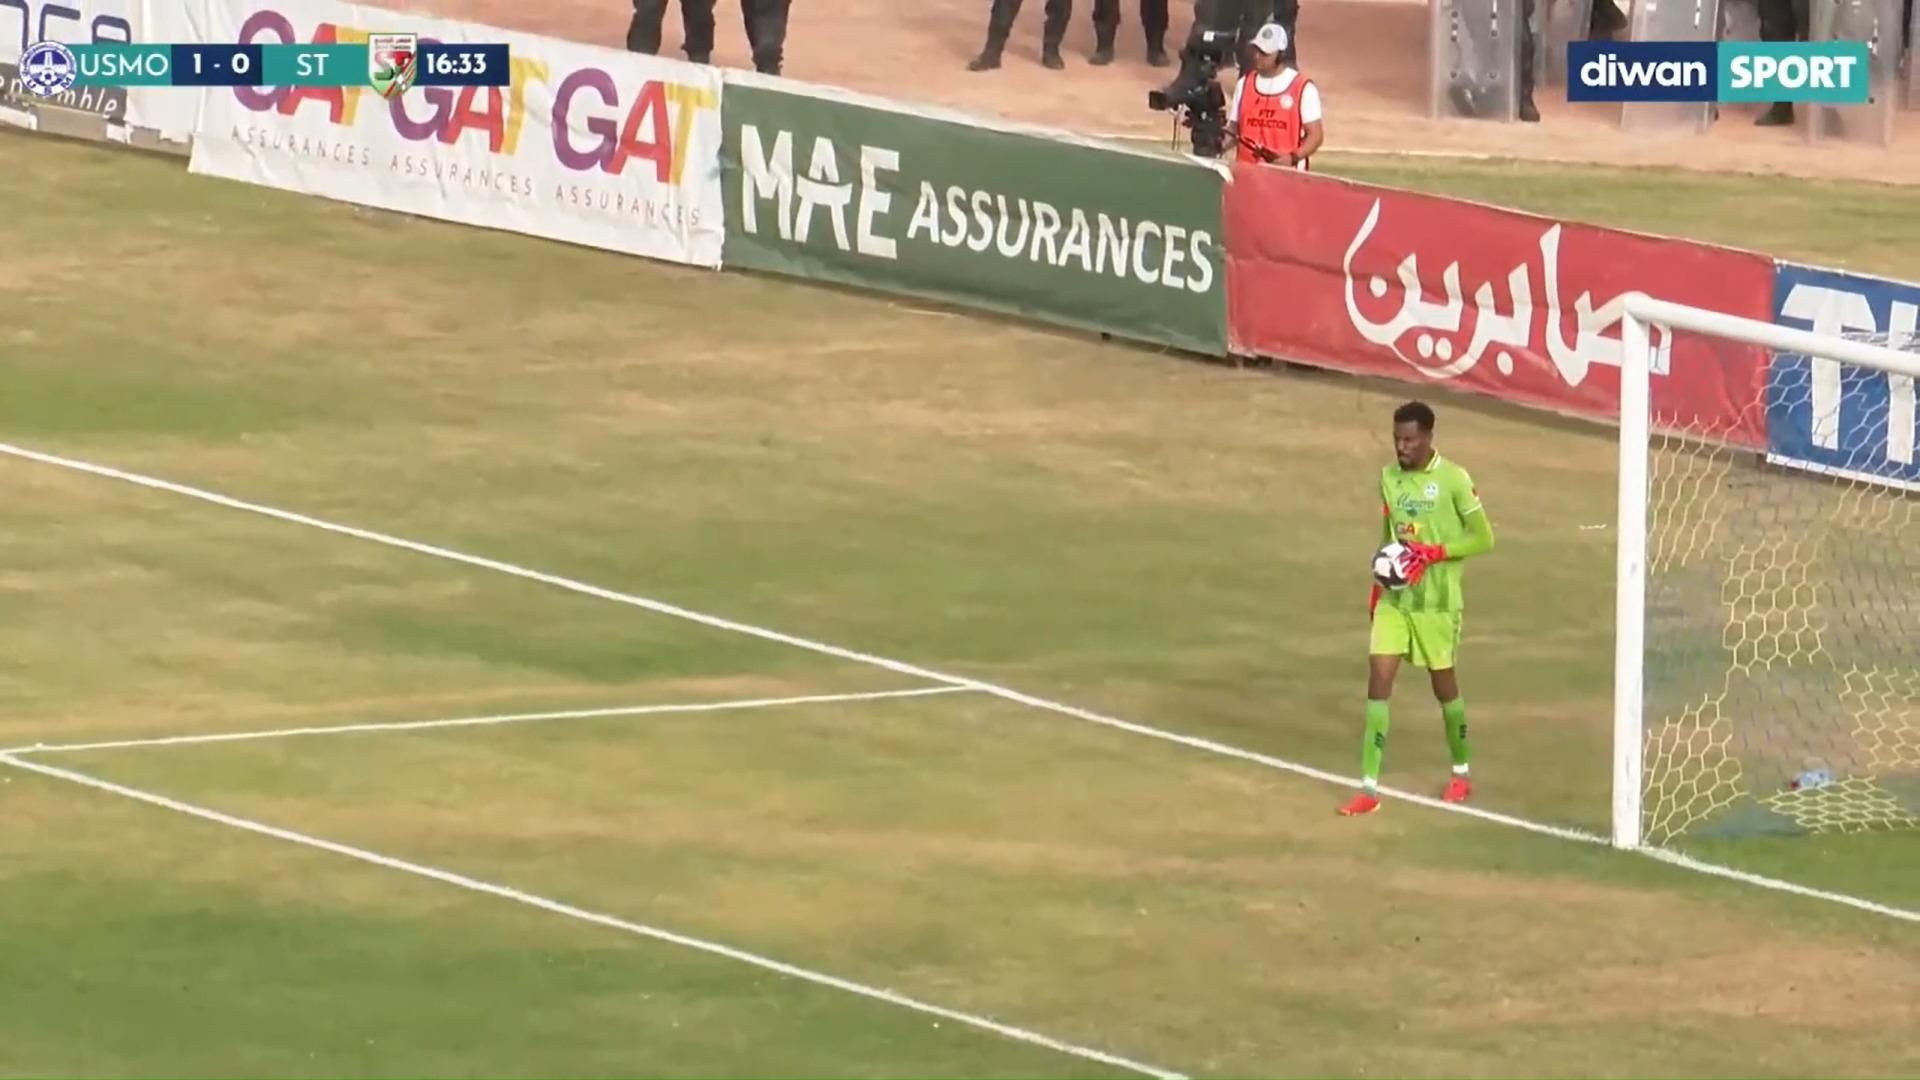ball: (1366, 535, 1431, 608)
goalkeeper: (1317, 388, 1523, 844)
